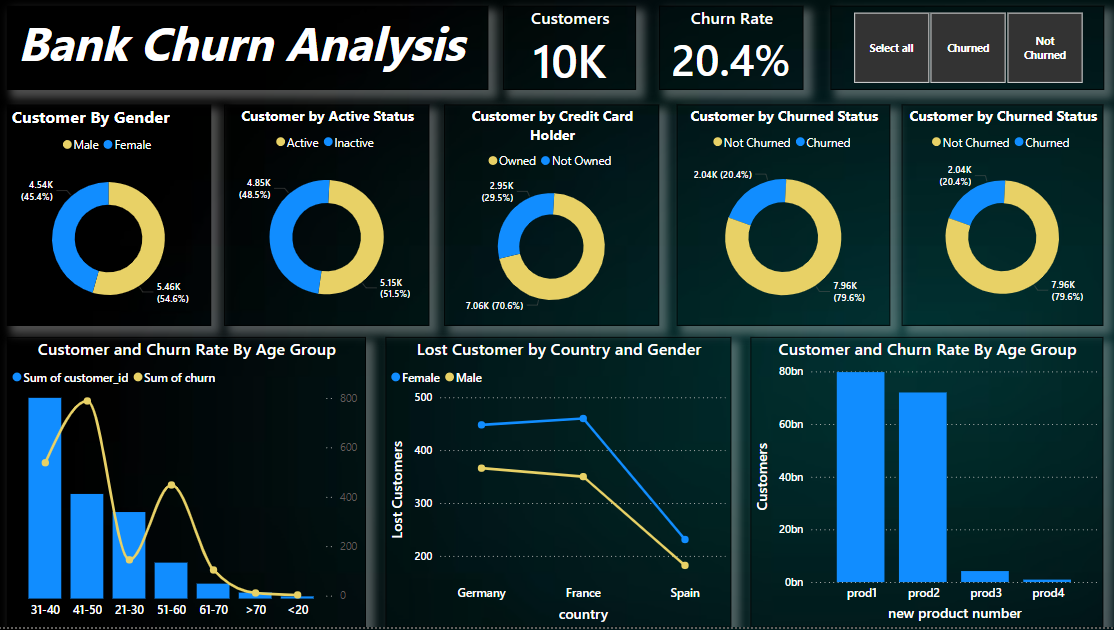

What the dashboard file says about the page in this screenshot:
{"tool":"powerbi","page":{"name":"Page 1","canvas":[1280,720],"ordinal":0},"visuals":[{"type":"textbox","box":[9.6,9.6,550.3,96.1],"z":0},{"type":"card","title":"Customers","fields":{"Values":["Count(Bank Customer Churn Analysis Data.customer_id)"]},"box":[577.7,9.6,152.3,96.1],"z":1000},{"type":"card","title":"Churn Rate","fields":{"Values":["Bank Customer Churn Analysis Data.ChurnRate"]},"box":[756.1,9.6,164.7,96.1],"z":2000},{"type":"slicer","fields":{"Values":["Bank Customer Churn Analysis Data.New Churn "]},"box":[950.9,9.6,312.9,96.1],"z":3000},{"type":"donutChart","title":"Customer By Gender","fields":{"Category":["Bank Customer Churn Analysis Data.gender"],"Y":["CountNonNull(Bank Customer Churn Analysis Data.gender)"]},"box":[9.6,123.5,233.3,252.5],"z":4000},{"type":"donutChart","title":"Customer by Active Status","fields":{"Category":["Bank Customer Churn Analysis Data.New Active Members"],"Y":["CountNonNull(Bank Customer Churn Analysis Data.New Active Members)"]},"box":[258,123.5,234.6,252.5],"z":5000},{"type":"donutChart","title":"Customer by Credit Card Holder ","fields":{"Category":["Bank Customer Churn Analysis Data.New credit_card"],"Y":["CountNonNull(Bank Customer Churn Analysis Data.New credit_card)"]},"box":[510.5,123.5,245.6,252.5],"z":6000},{"type":"donutChart","title":"Customer by Churned Status","fields":{"Category":["Bank Customer Churn Analysis Data.New Churn "],"Y":["CountNonNull(Bank Customer Churn Analysis Data.New Churn )"]},"box":[775.3,123.5,244.3,252.5],"z":7000},{"type":"donutChart","title":"Customer by Churned Status","fields":{"Category":["Bank Customer Churn Analysis Data.New Churn "],"Y":["CountNonNull(Bank Customer Churn Analysis Data.New Churn )"]},"box":[1033.3,123.5,230.5,252.5],"z":8000},{"type":"lineStackedColumnComboChart","title":"Customer and Churn Rate By Age Group","fields":{"Category":["Bank Customer Churn Analysis Data.Age Group"],"Y":["Sum(Bank Customer Churn Analysis Data.customer_id)"],"Y2":["Sum(Bank Customer Churn Analysis Data.churn)"]},"box":[9.6,388.3,410.3,332.1],"z":9000},{"type":"lineChart","title":"Lost Customer by Country and Gender","fields":{"Category":["Bank Customer Churn Analysis Data.country"],"Series":["Bank Customer Churn Analysis Data.gender"],"Y":["Bank Customer Churn Analysis Data.Lost Customers"]},"box":[443.2,388.3,395.2,332.1],"z":9001},{"type":"columnChart","title":"Customer and Churn Rate By Age Group","fields":{"Category":["Bank Customer Churn Analysis Data.new product number"],"Y":["Sum(Bank Customer Churn Analysis Data.customer_id)"]},"box":[860.4,388.3,403.4,332.1],"z":9002}]}

Visuals, with their boxes in screenshot pixels (x1, y1, x2, y2), scaled from the page's 1280x720 canvas onto the 1114x630 screenshot:
textbox: locate(8, 8, 487, 92)
"Customers" card: locate(503, 8, 635, 92)
"Churn Rate" card: locate(658, 8, 801, 92)
slicer - Bank Customer Churn Analysis Data.New Churn : locate(828, 8, 1100, 92)
"Customer By Gender" donutChart: locate(8, 108, 211, 329)
"Customer by Active Status" donutChart: locate(225, 108, 429, 329)
"Customer by Credit Card Holder " donutChart: locate(444, 108, 658, 329)
"Customer by Churned Status" donutChart: locate(675, 108, 887, 329)
"Customer by Churned Status" donutChart: locate(899, 108, 1100, 329)
"Customer and Churn Rate By Age Group" lineStackedColumnComboChart: locate(8, 340, 365, 629)
"Lost Customer by Country and Gender" lineChart: locate(386, 340, 730, 629)
"Customer and Churn Rate By Age Group" columnChart: locate(749, 340, 1100, 629)
